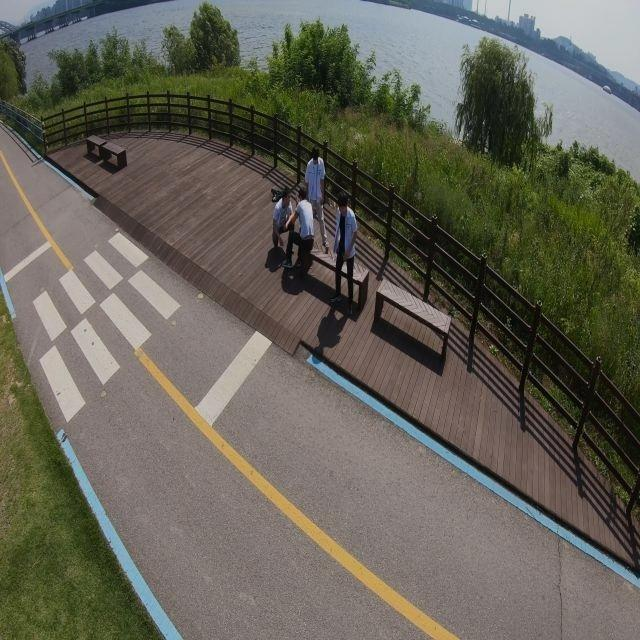non-fight: (332, 197, 356, 316), (283, 190, 314, 268), (307, 147, 330, 251), (274, 193, 294, 255)
